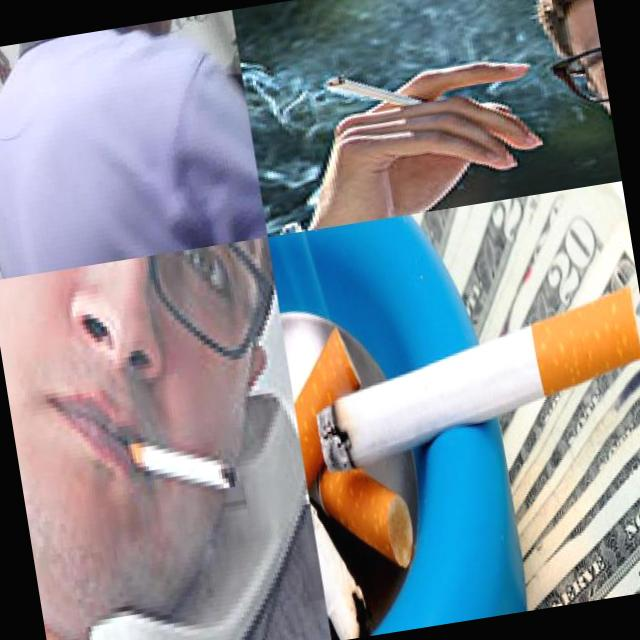smoke: (293, 278, 640, 581), (115, 420, 240, 508), (318, 60, 424, 118)
